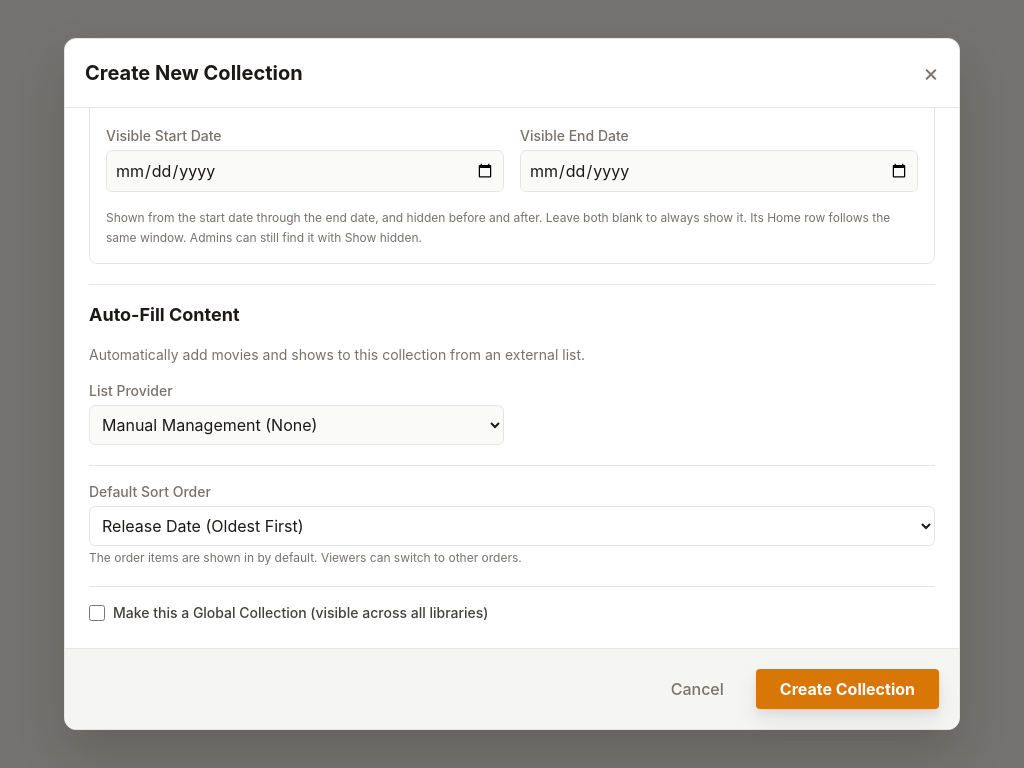
Scenario: CreateCollectionModal › keeps the franchise advice for the AI List
The width and height of the screenshot is (1024, 768).
(page scrolled)
Select "AI List" in the dropdown showing "Manual Management (None)" below "List Provider" at (296, 425), box [89,405,504,445]
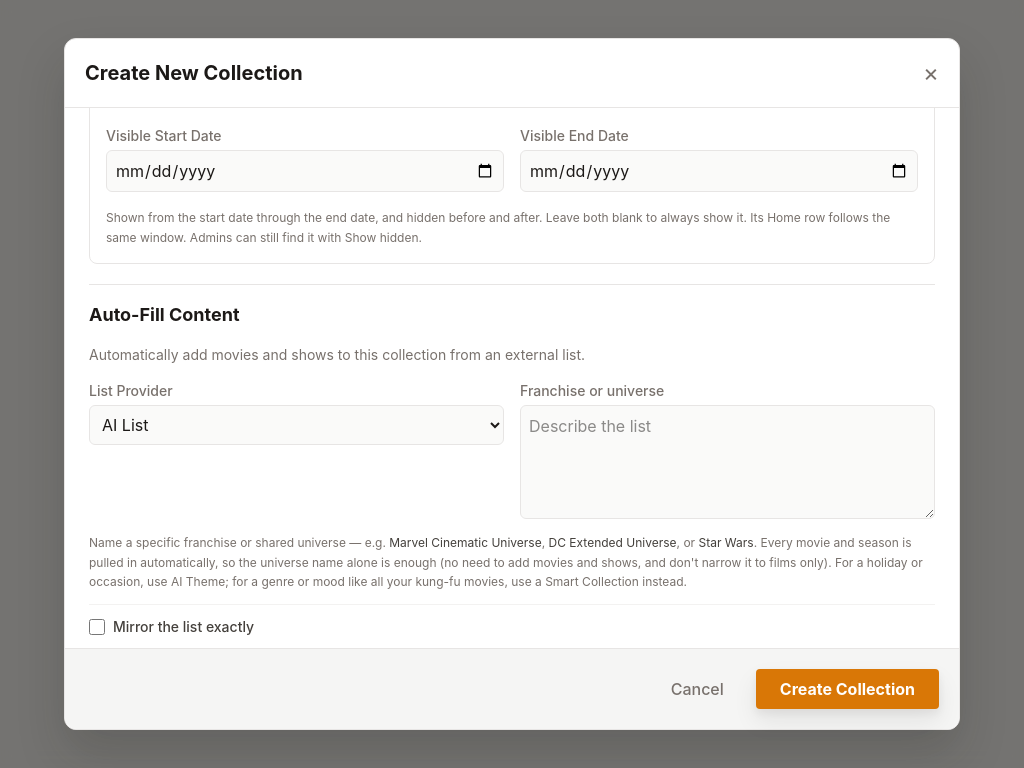
Expected: the text "Name a specific franchise or shared universe" is shown, [89,535,389,550]
